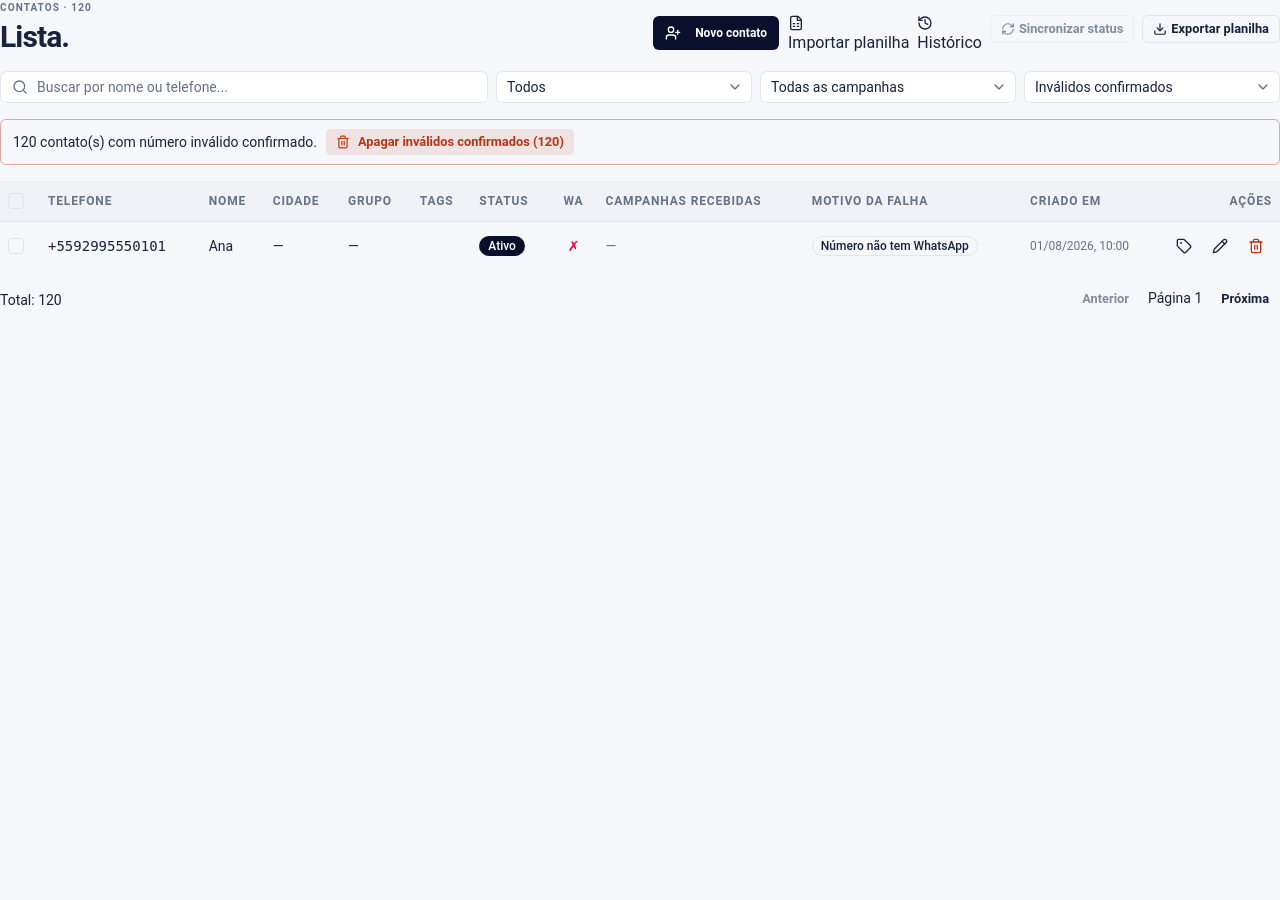
it: ContactsPage — apagar inválidos confirmados (B.3) › a confirmação avisa do histórico apagado, do consentimento E da reimportação
This screenshot has width=1280, height=900.
What coordinates should you click on to do the following:
click the button "Apagar inválidos confirmados (120)"
I would click on:
 (450, 142)
Its box is [325,128,575,156].
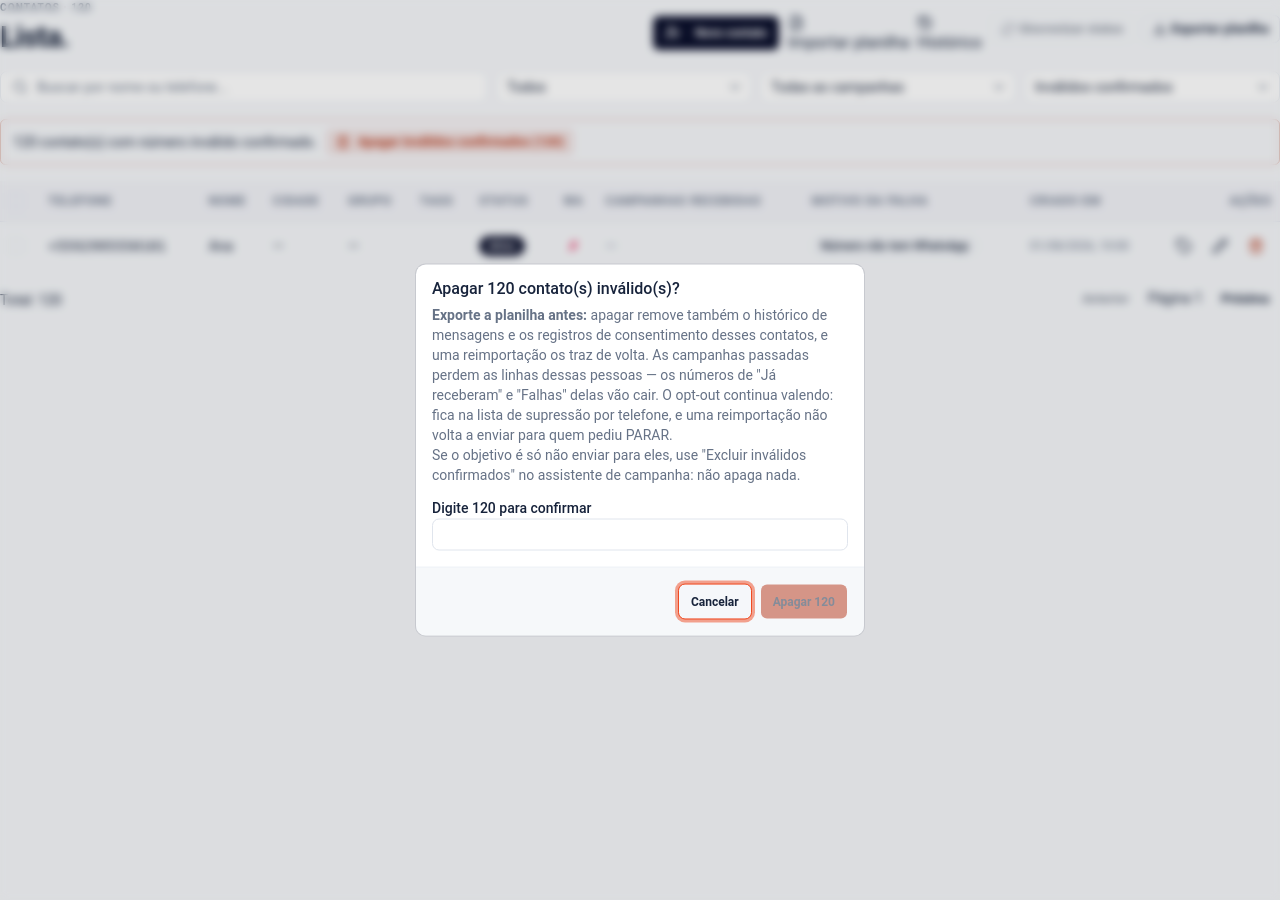
Expected: the dialog shows "Exporte a planilha antes", [432,306,587,322]
Expected: the dialog shows "histórico de mensagens", [432,306,833,442]
Expected: the dialog shows "consentimento", [432,306,833,442]
